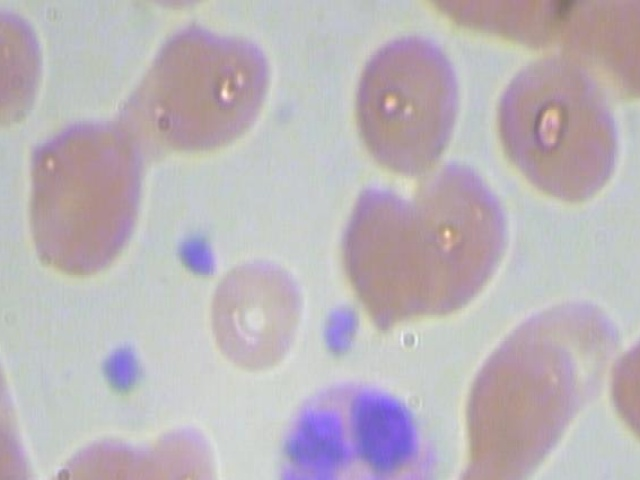Platelets: (92, 335, 155, 397), (311, 301, 364, 366), (172, 228, 223, 289)
RBC: (490, 45, 630, 215), (15, 113, 146, 285), (456, 324, 587, 480), (329, 177, 445, 336), (351, 29, 470, 181), (150, 15, 278, 156), (197, 253, 315, 381), (0, 0, 56, 131), (47, 422, 165, 480), (117, 0, 235, 17)
WBC: (266, 374, 447, 480)
